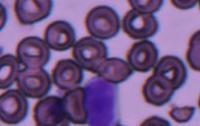L: (83, 76, 121, 126)
